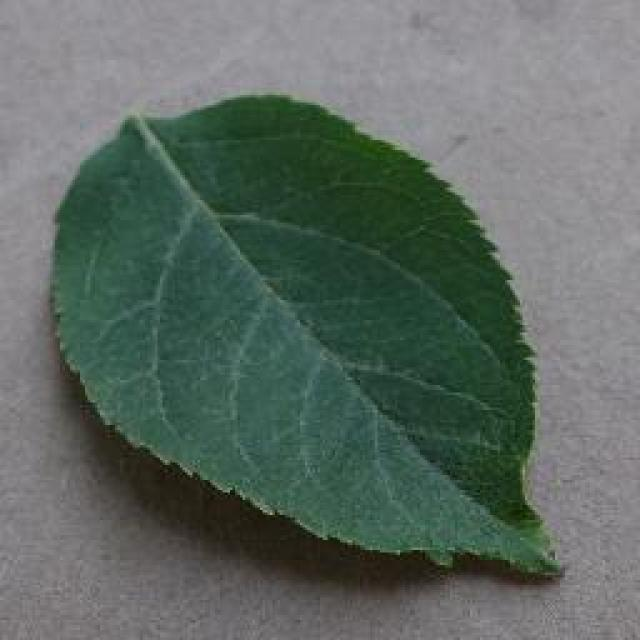apple healthy: (45, 88, 563, 580)
